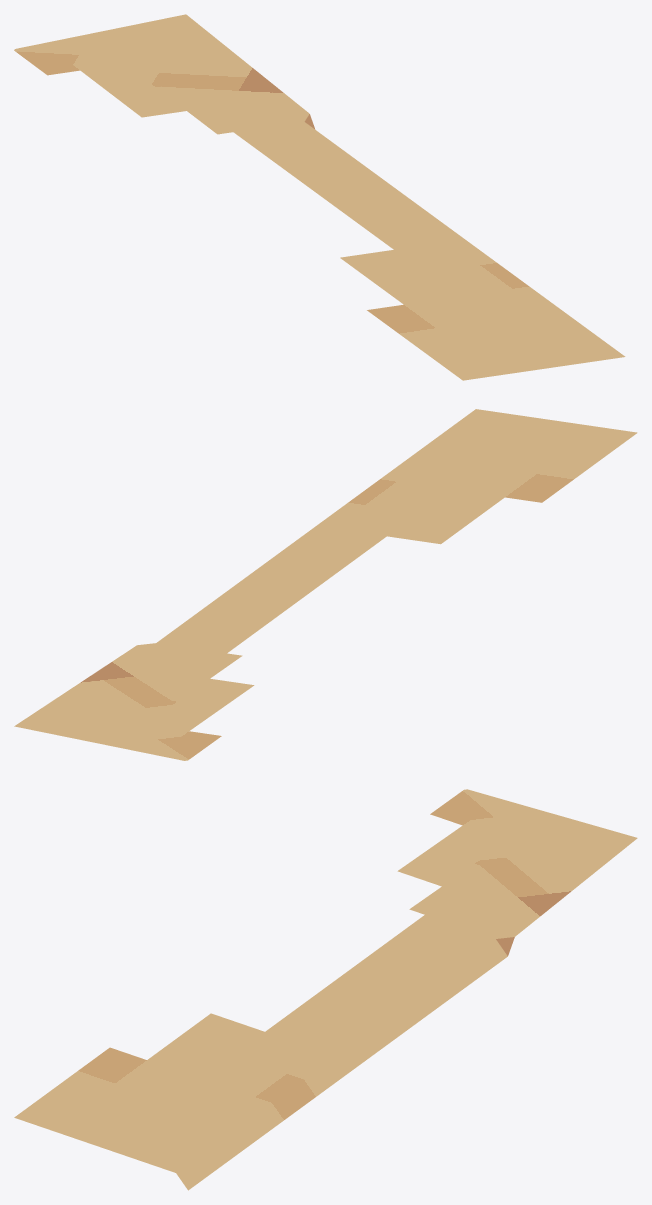
3 views of the same model, one above another, from view 1: azimuth 30°, elevation 25°; view 2: azimuth 150°, elevation 25°; view 3: azimuth 330°, elevation 25° (orthographic).
Bounding box in the file's own units: 0.2236 × 0.0373 × 1.
Materials: 1 (1 with a texture image).
